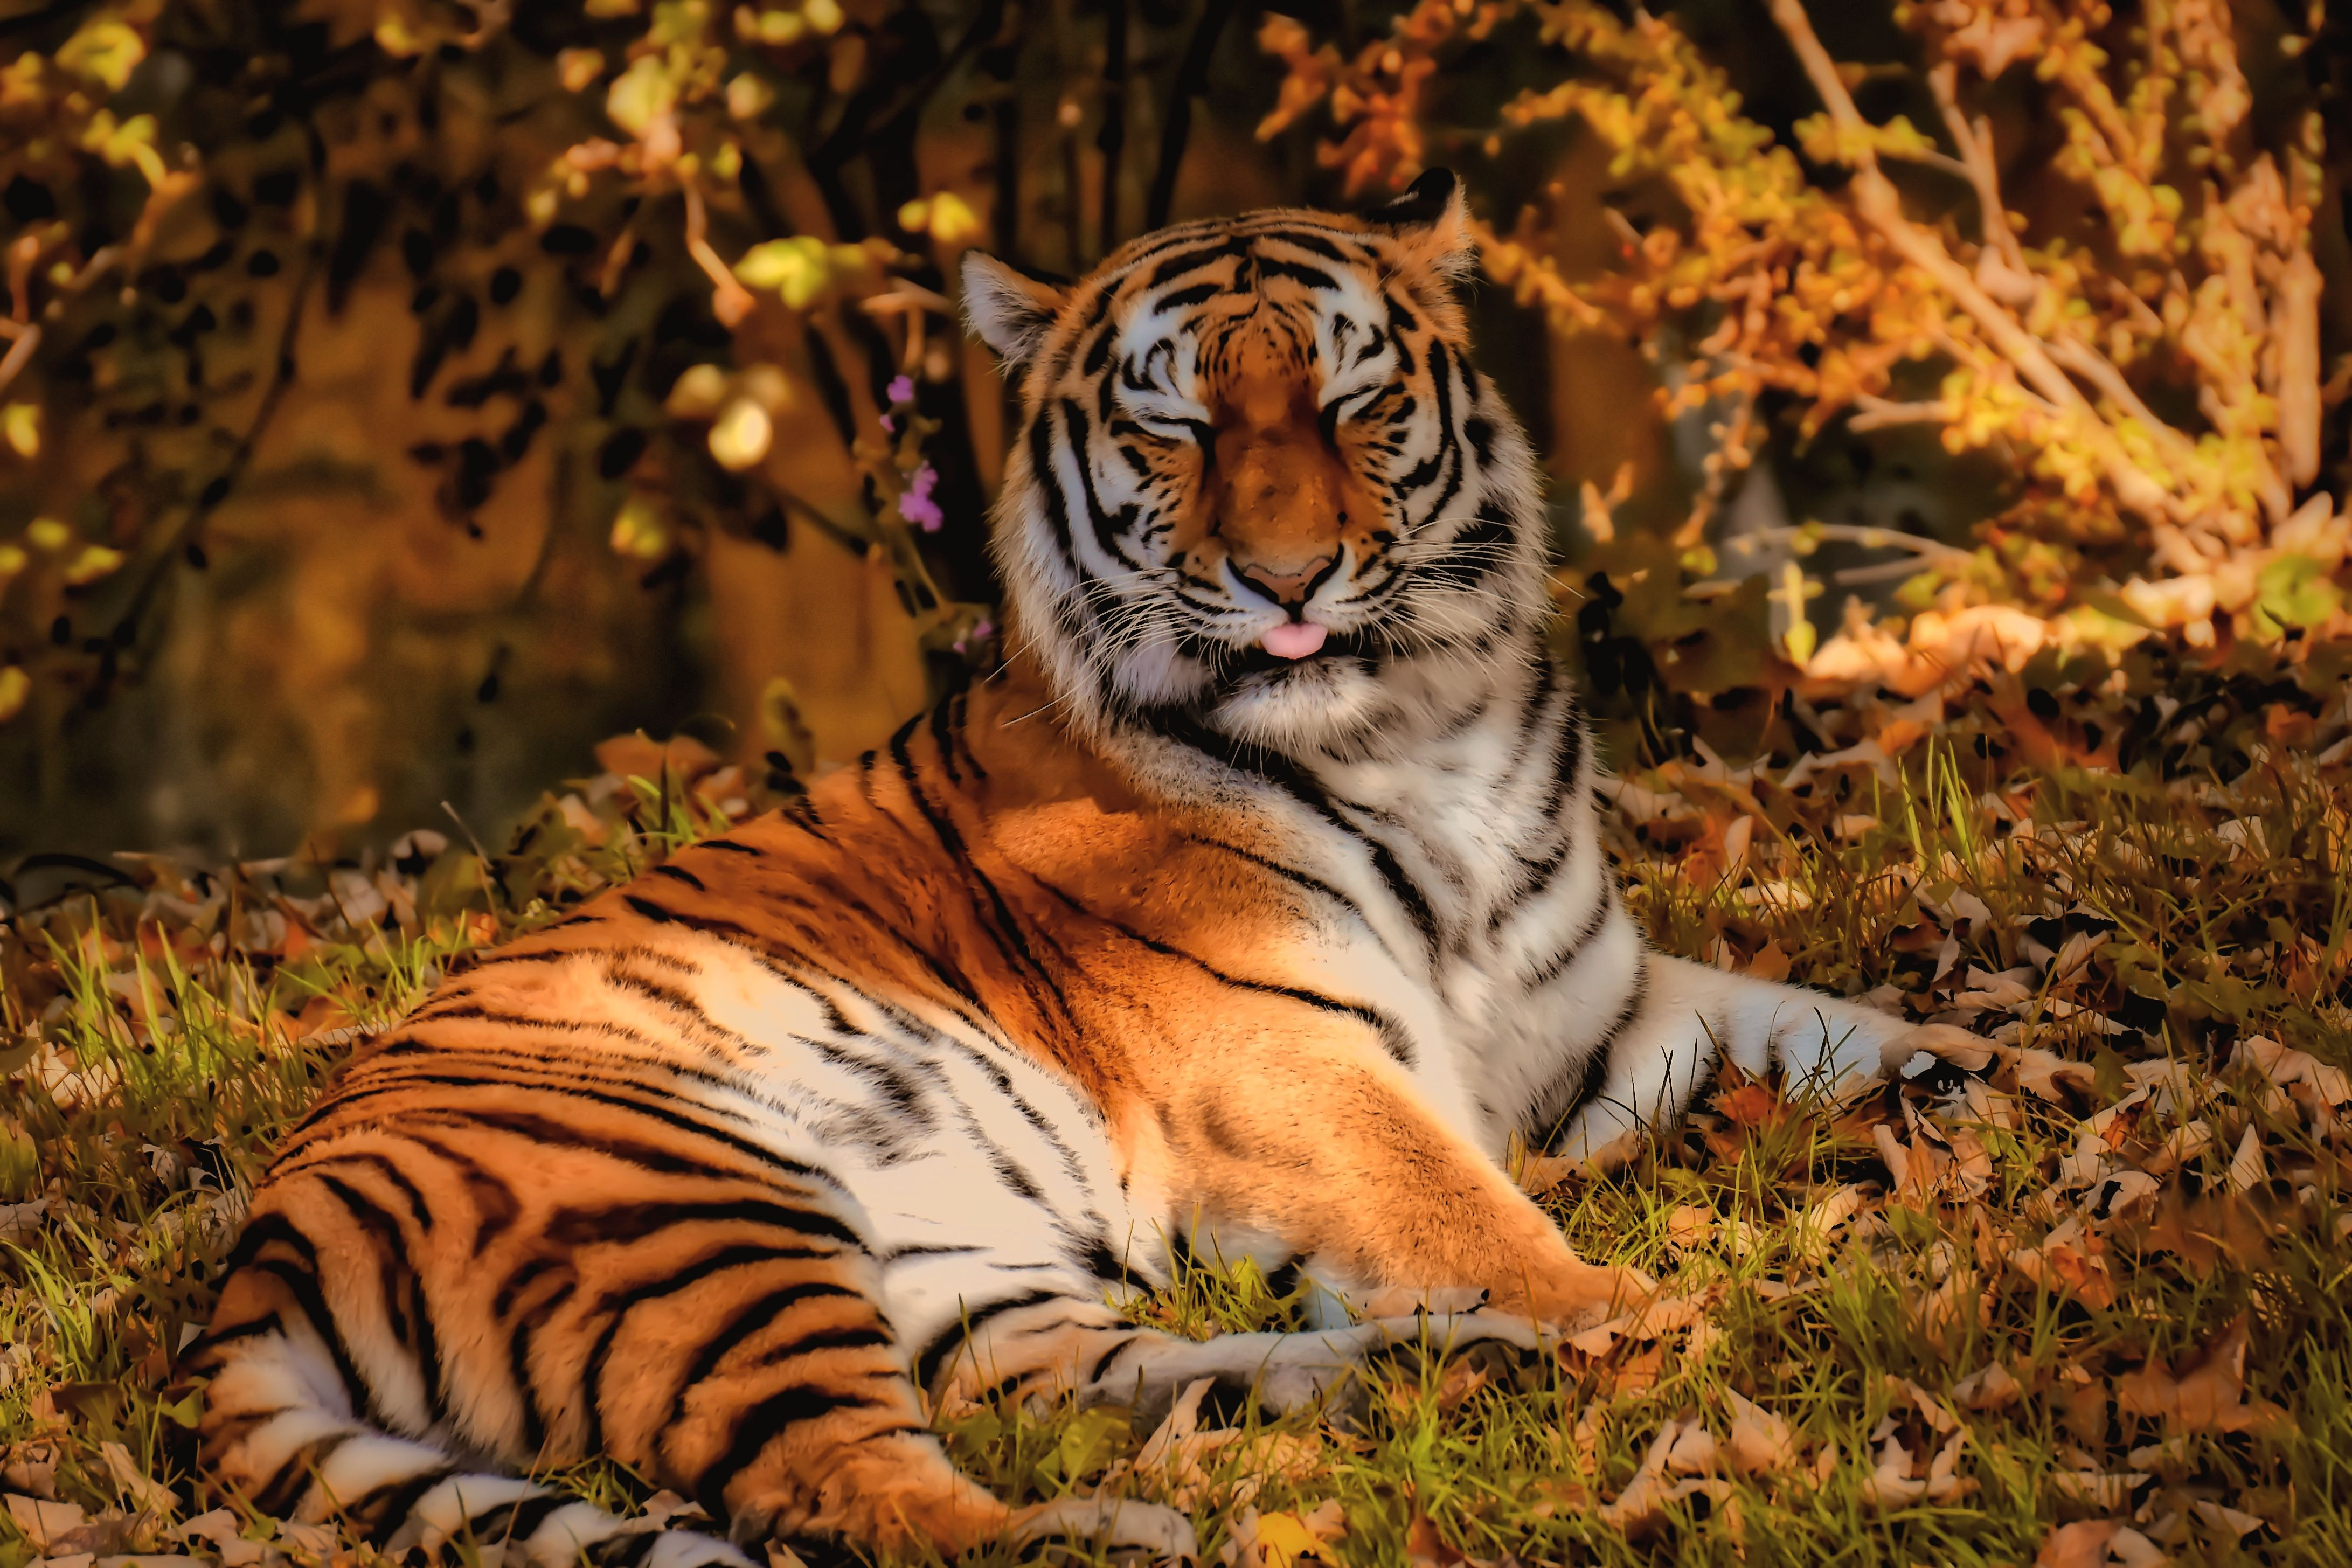tiger: (455, 205, 1850, 1433)
